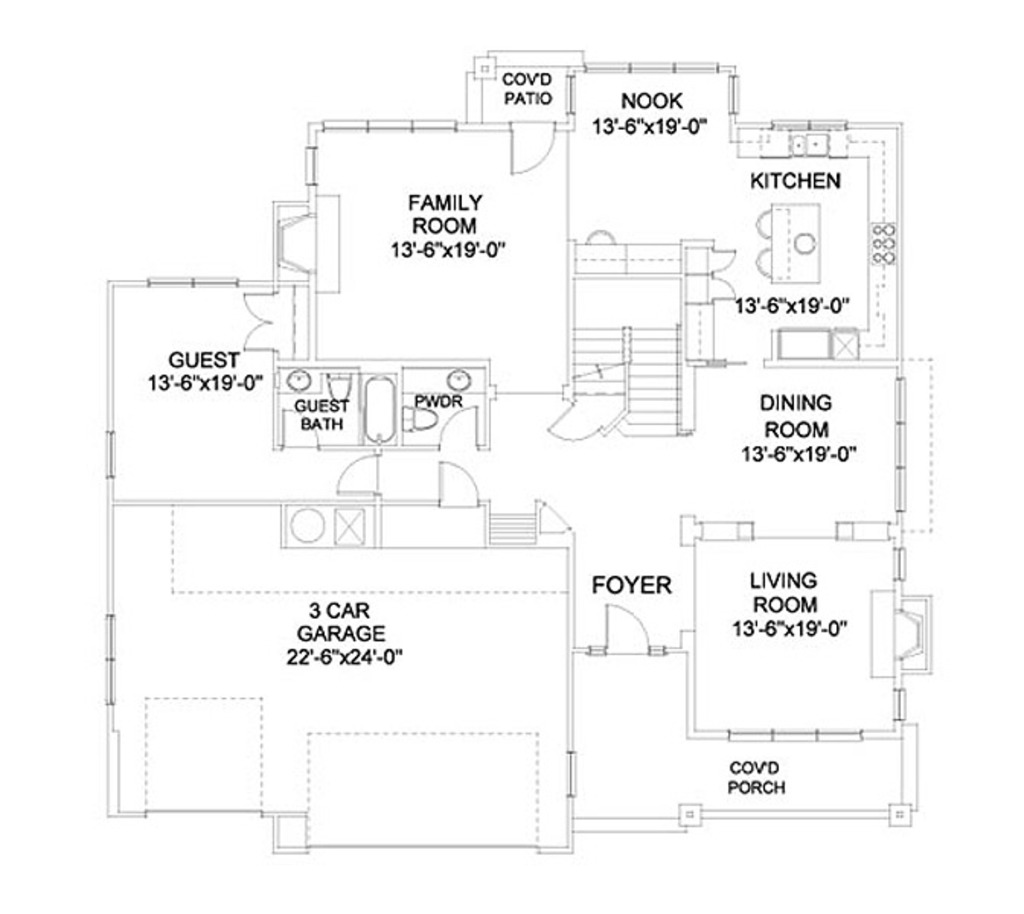door: (545, 392, 612, 458), (597, 590, 659, 656), (507, 117, 569, 182), (235, 280, 282, 356), (324, 449, 390, 497), (434, 458, 481, 510), (439, 402, 483, 453), (713, 243, 743, 306)
kitchen_bar: (749, 204, 826, 298)
large_sink: (396, 397, 439, 443), (321, 358, 353, 408)
small_sink: (429, 357, 482, 393), (272, 363, 317, 401)
stairs: (569, 278, 689, 443)
tub: (355, 362, 400, 471)
twin_sink: (782, 123, 848, 159)
window: (727, 719, 873, 749), (98, 610, 128, 705), (556, 748, 580, 805), (100, 427, 125, 480), (720, 68, 748, 115)
